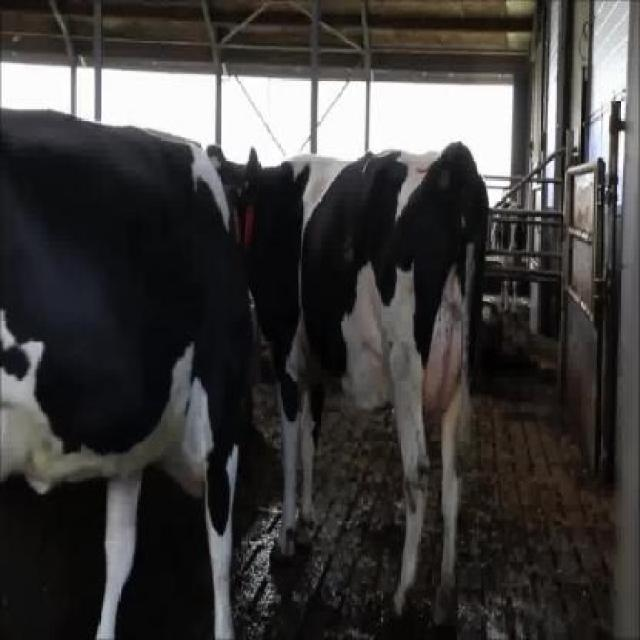Cow: (202, 143, 488, 628), (0, 106, 243, 639)
